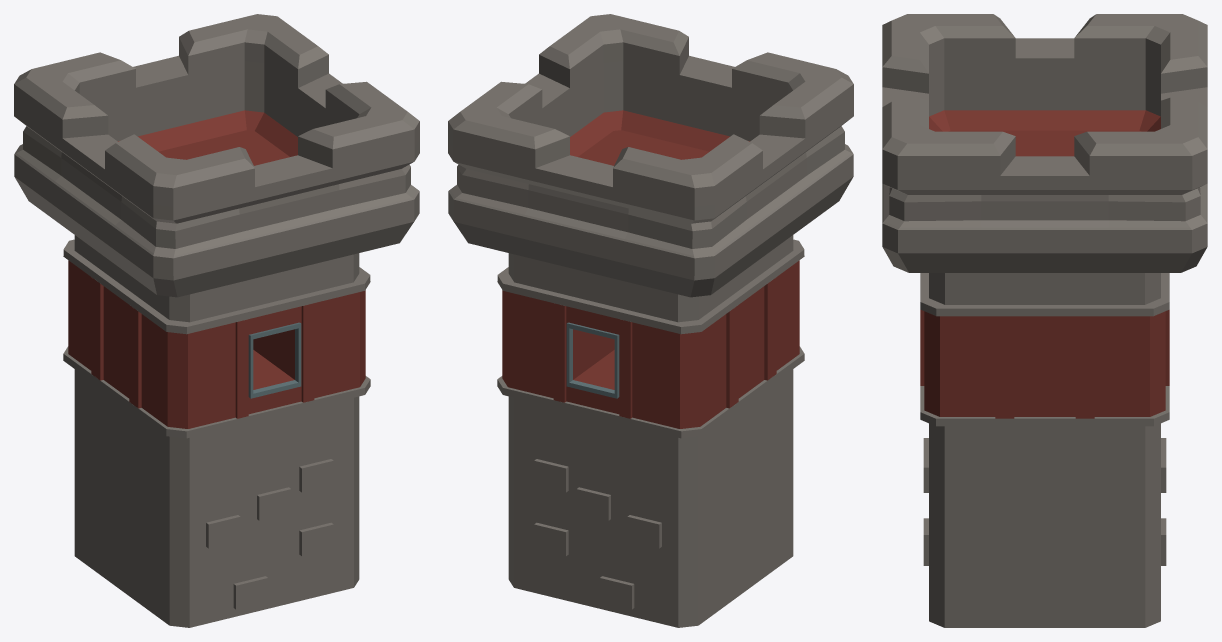
The model's file is Tower2.fbx.
3 renders of one model, left to right at view 1: azimuth 30°, elevation 25°; view 2: azimuth 150°, elevation 25°; view 3: azimuth 270°, elevation 25°, orthographic. The views are drawn at different scales.
Visible parts, largest first — view 1: tower.001; view 2: tower.001; view 3: tower.001.
Part boxes in pixels (bbox=[...]): tower.001: bbox=[14, 14, 419, 627]; tower.001: bbox=[448, 14, 853, 627]; tower.001: bbox=[882, 14, 1207, 627].
Size of the model in its own units: 825 by 1399 by 825.
